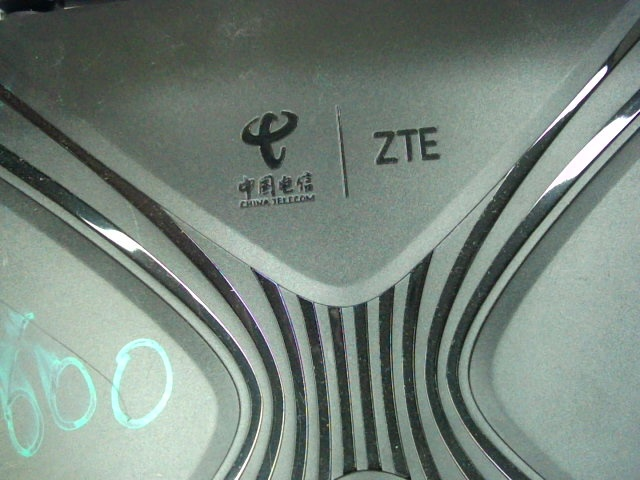AX_ZTEChinaTelecom: (210, 101, 449, 208)
